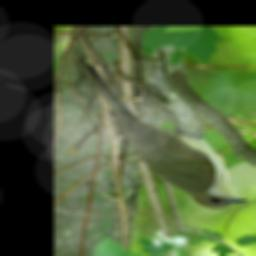Cuckoo: (73, 54, 249, 210)
